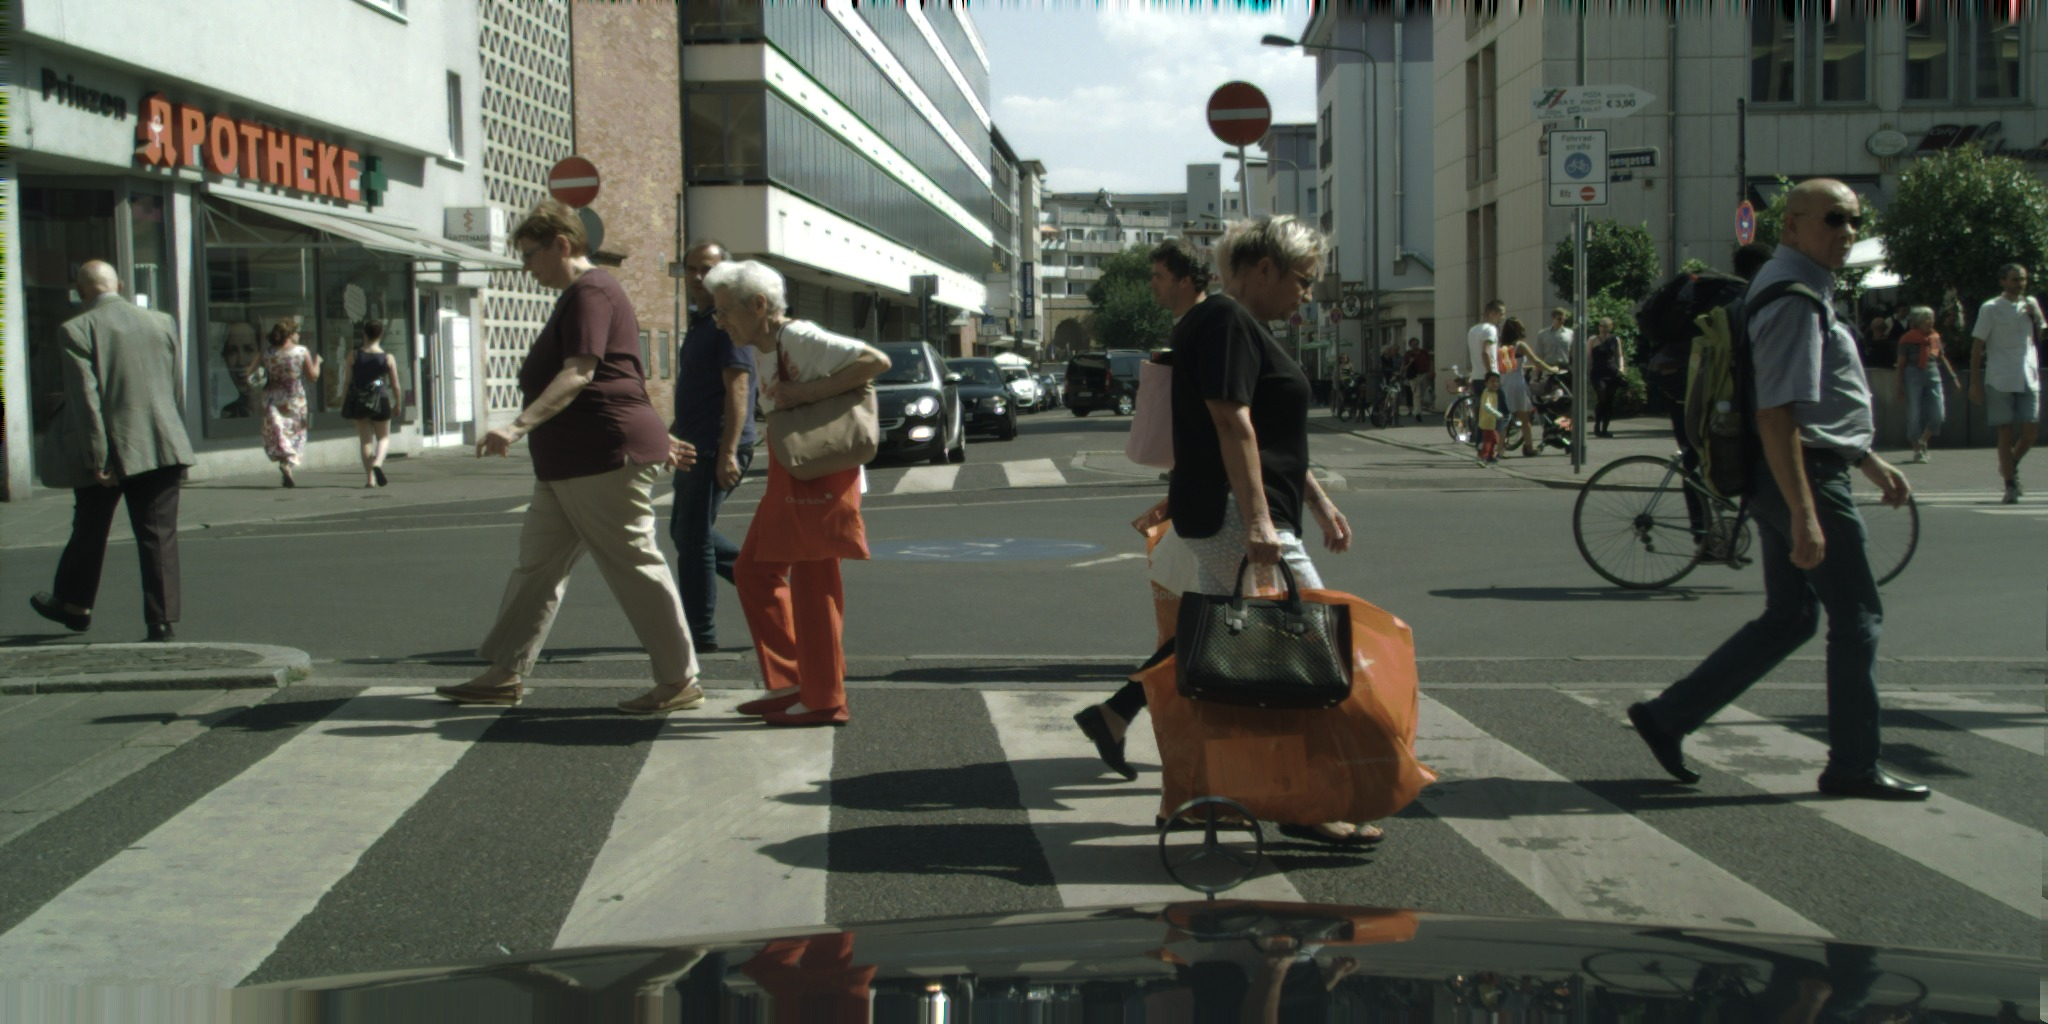bicycle: (1573, 397, 1918, 590)
car: (831, 341, 966, 467), (914, 356, 1019, 440), (1062, 348, 1167, 416), (992, 366, 1040, 414), (1014, 369, 1051, 411), (1044, 373, 1072, 403)
person: (1626, 178, 1935, 800), (1136, 215, 1437, 848), (431, 200, 704, 714), (1074, 220, 1263, 780), (702, 259, 891, 723), (29, 259, 196, 647), (662, 237, 757, 651), (1968, 261, 2047, 503), (245, 320, 326, 487), (1147, 236, 1228, 380), (1486, 317, 1561, 459), (1894, 305, 1961, 463), (339, 319, 401, 488), (1467, 300, 1511, 462), (1533, 309, 1580, 436), (1580, 317, 1629, 438), (1400, 338, 1436, 422), (1876, 301, 1917, 364), (1850, 318, 1899, 367), (1477, 373, 1503, 467), (1331, 352, 1360, 409), (1386, 344, 1405, 413), (1400, 355, 1416, 415), (1376, 345, 1394, 398)
rider: (1638, 243, 1805, 499)
